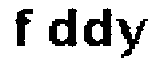d: (43, 6, 81, 50), (82, 4, 114, 52)
f: (10, 5, 36, 50)
y: (114, 14, 149, 60)
